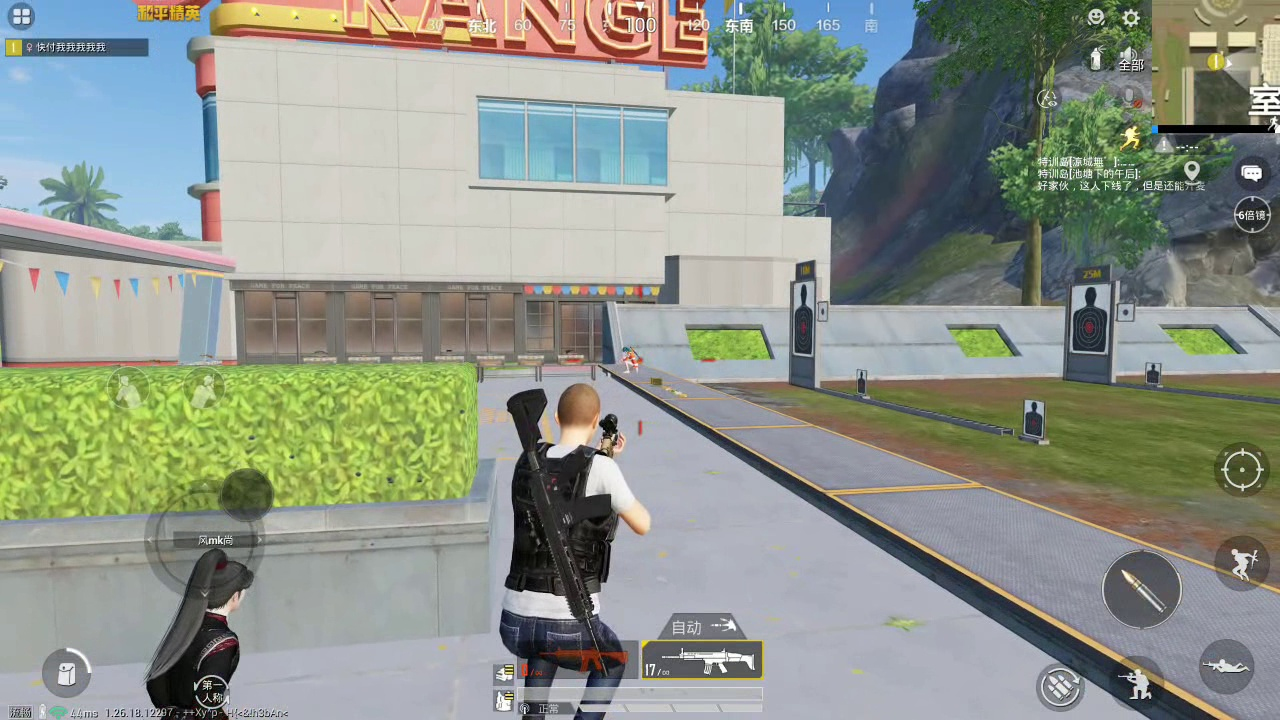enemy: (158, 550, 246, 720), (623, 344, 643, 375)
